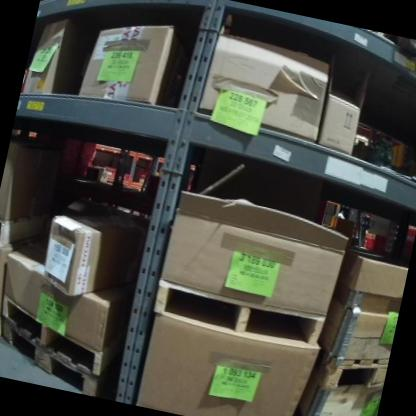pallet: (148, 278, 326, 353), (0, 295, 119, 377), (0, 317, 109, 397), (310, 344, 389, 401), (0, 201, 52, 253), (391, 36, 416, 78)
small_load_carrier: (359, 231, 391, 259), (97, 163, 120, 178), (133, 170, 151, 186)
